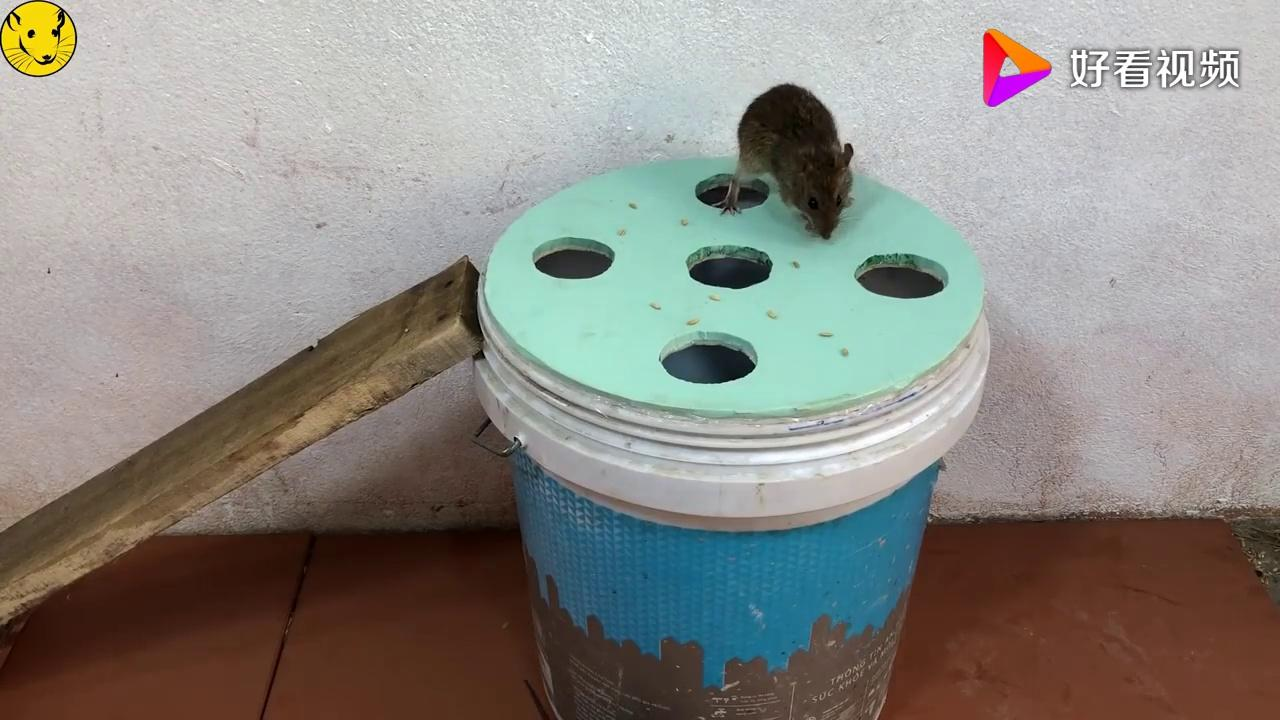rat: (706, 65, 862, 254)
